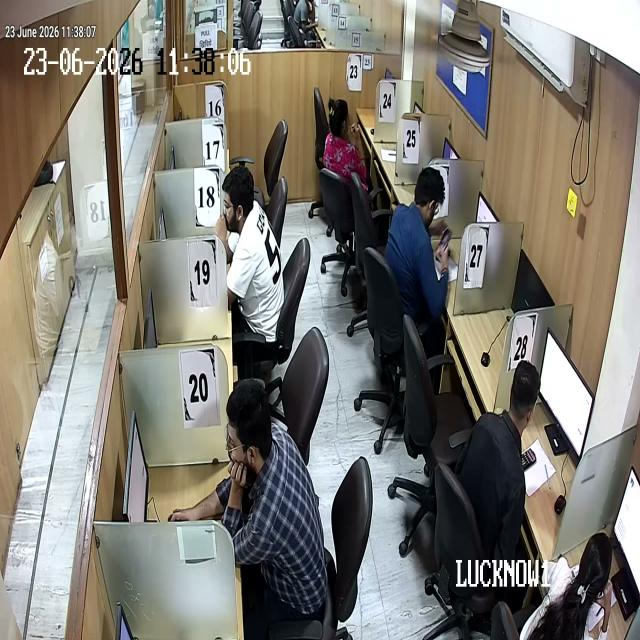phone: (436, 228, 455, 264)
